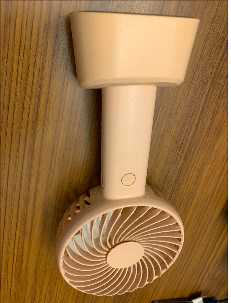Nonfood: (72, 33, 174, 290)
